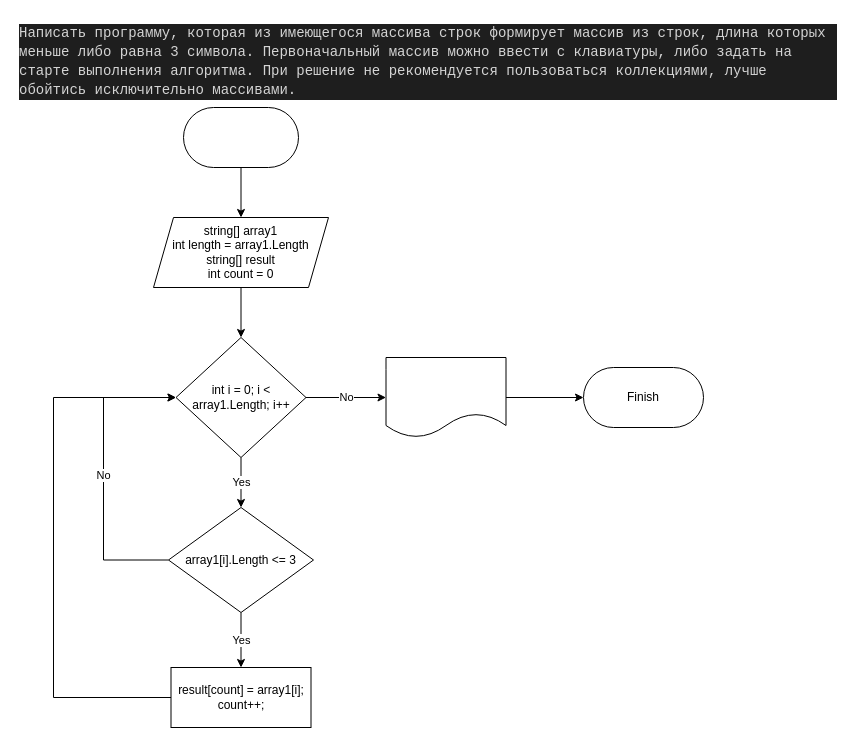
Image size: 854x745. Some labels were removed from this diagram. The shapes that lost their labels are listed below. From the top down, each one's box as (x1, y1, x2, y2) in pixels, then its label:
(182, 106, 298, 168): Start
(385, 356, 506, 438): string[] result
